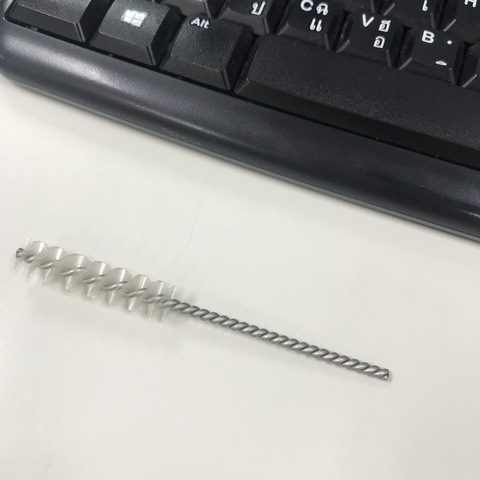Twist Brush-B: (10, 242, 390, 389)
